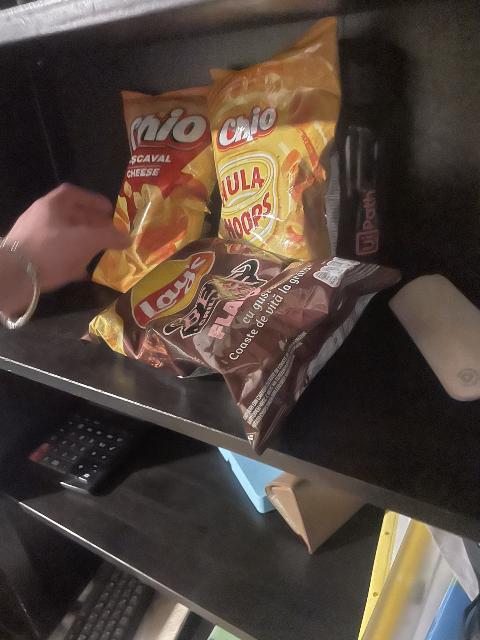Chio Cascaval 125g: (92, 86, 218, 290)
Chio Hula Hoops Cheese 70g: (206, 19, 343, 263)
Lays Beef Grilled Ribs 125g: (93, 241, 396, 439)
